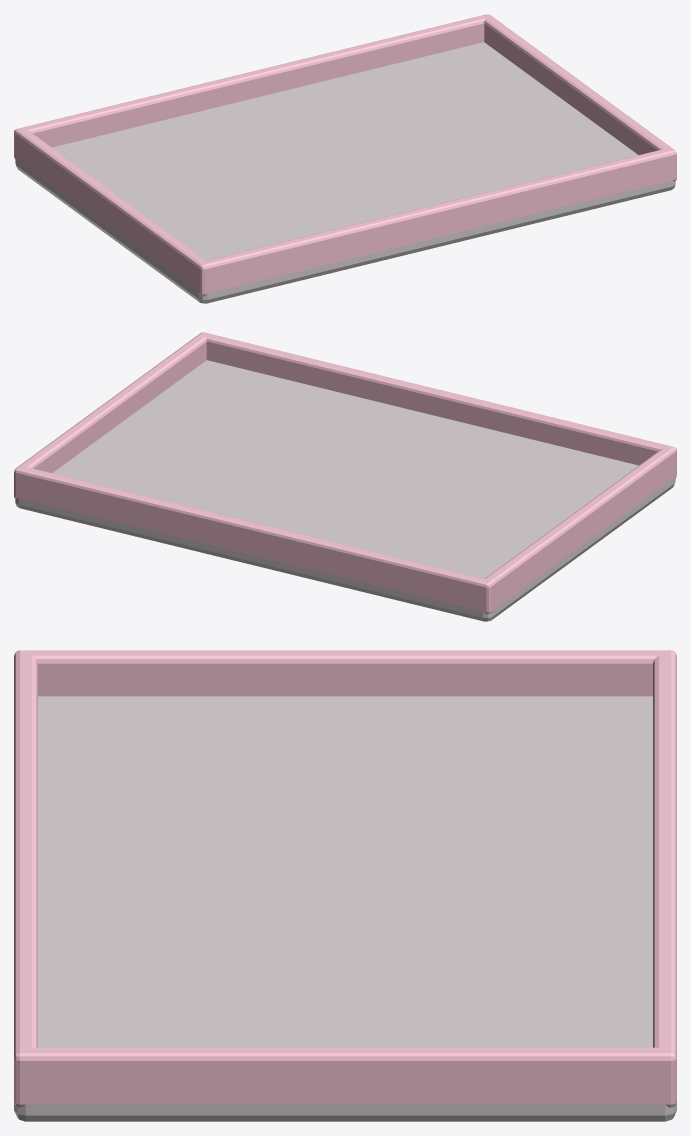
Rendered from lab_tray.glb.
3 renders of one model, top to bottom at view 1: azimuth 30°, elevation 25°; view 2: azimuth 150°, elevation 25°; view 3: azimuth 270°, elevation 25°, orthographic. The views are drawn at different scales.
Parts seen in each view (by area): view 1: tray_base, tray_rim_1, tray_rim_0, tray_rim_3, tray_rim_2; view 2: tray_base, tray_rim_0, tray_rim_1, tray_rim_3, tray_rim_2; view 3: tray_base, tray_rim_2, tray_rim_3, tray_rim_0, tray_rim_1.
Boxes of the visible parts, x1,y1,x2,y2 form: tray_base: (15, 42, 675, 303); tray_rim_1: (196, 147, 676, 296); tray_rim_0: (14, 14, 492, 159); tray_rim_3: (14, 127, 210, 294); tray_rim_2: (482, 14, 675, 180); tray_base: (15, 360, 675, 621); tray_rim_0: (14, 465, 494, 614); tray_rim_1: (198, 332, 676, 476); tray_rim_3: (480, 445, 676, 613); tray_rim_2: (15, 332, 207, 499); tray_base: (14, 696, 676, 1121); tray_rim_2: (14, 1047, 676, 1107); tray_rim_3: (14, 650, 675, 696); tray_rim_0: (653, 650, 676, 1107); tray_rim_1: (14, 650, 37, 1107).
Bounding box in the file's own units: 0.32 × 0.026 × 0.22.
